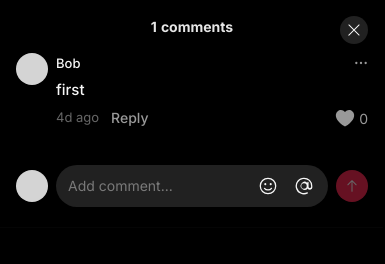
it: CommentPanel › puts a rate-limited reply back on its thread and holds Post for Retry-After
The width and height of the screenshot is (385, 264).
Click the button "Reply" at (130, 118), box [111,109,148,127]
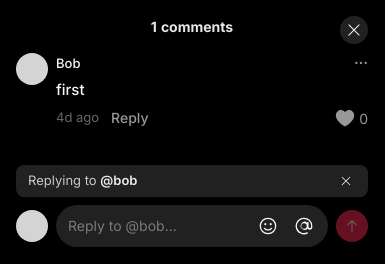
Type "hi" into the field labelled "Reply to @bob..." at (156, 226), box [64,215,248,236]
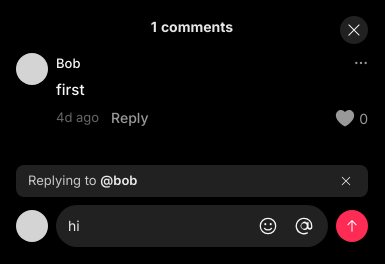
Press Enter in the field named "Reply to bob", box [64,215,248,236]
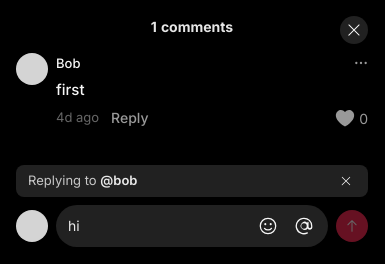
Now the button named "Post reply" is disabled, box [336,210,368,242]
